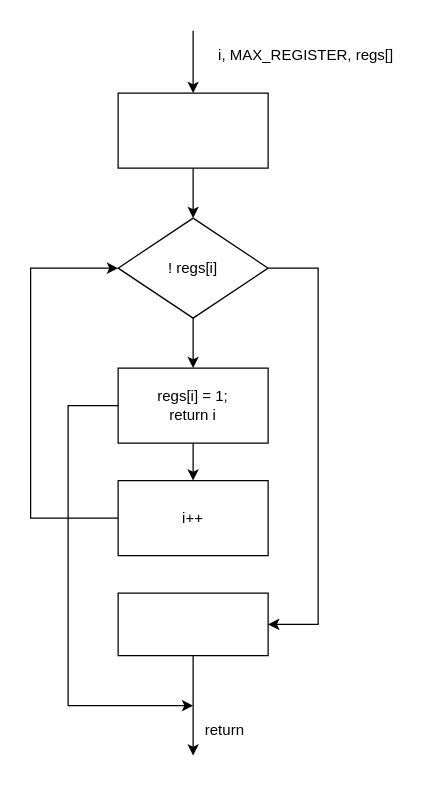
Image size: 428x788. Some labels were removed from this diagram. Each missing label, with the box of its shape:
i=0, i < MAX_REGISTER,: (117, 92, 268, 168)
return -1: (117, 592, 268, 656)
